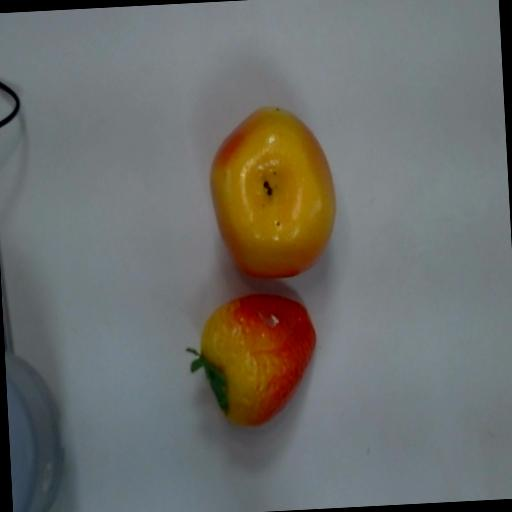Ripe: (188, 87, 349, 288), (166, 283, 320, 436)
